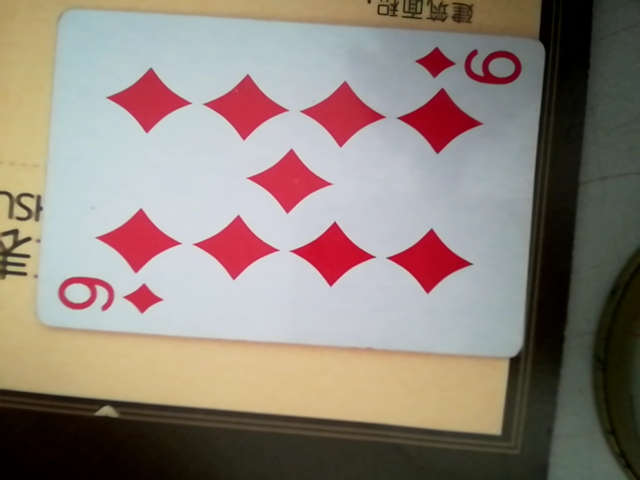fk 9: (28, 8, 549, 365)
